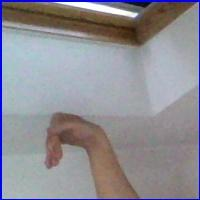del: (38, 110, 112, 174)
